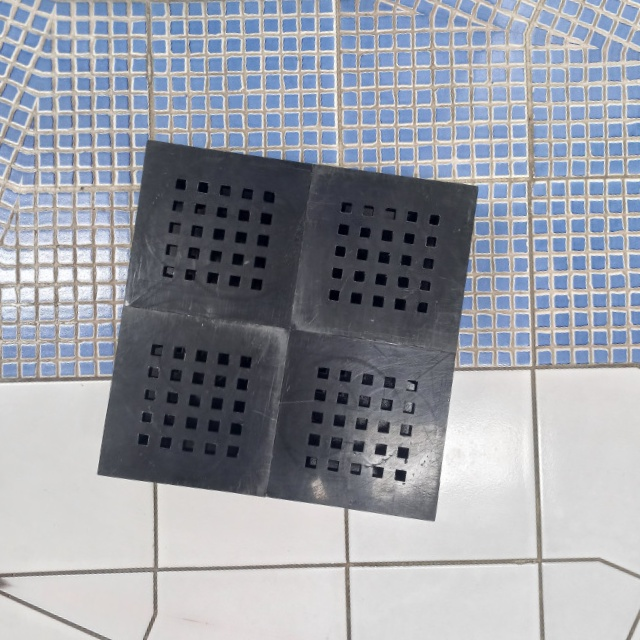pallet: (75, 126, 502, 529)
